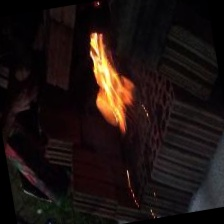fire: (74, 21, 147, 142)
